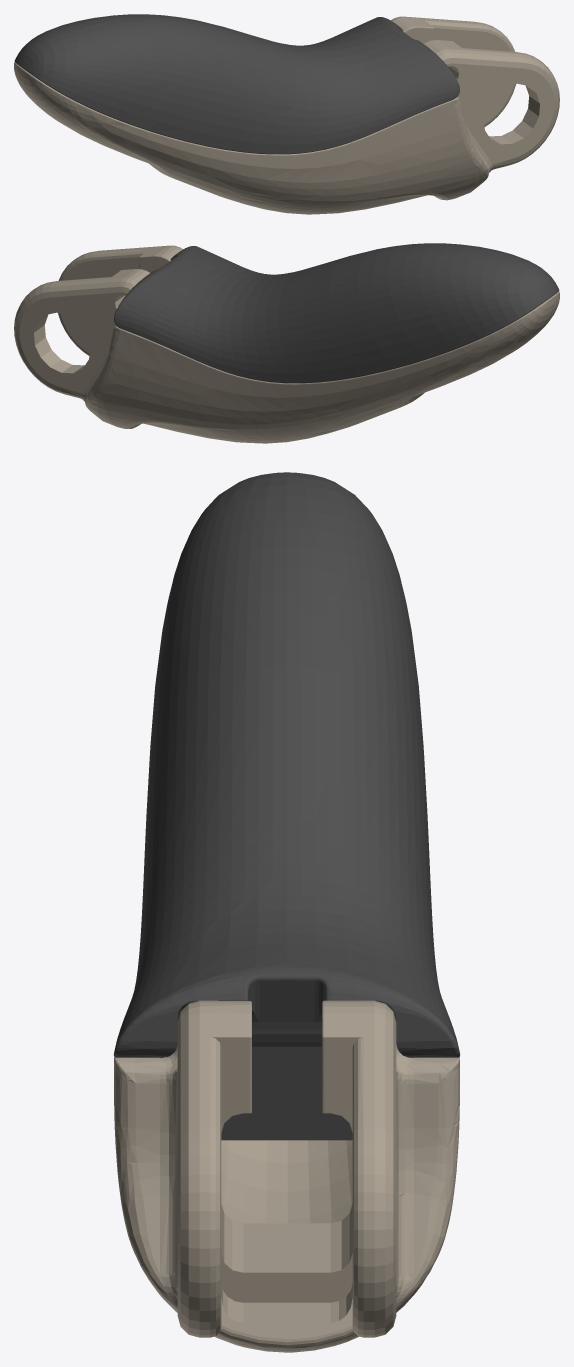
File: hand1_link_3_2_collisions.obj
The picture shows the model from 3 angles, top to bottom: view 1: azimuth 30°, elevation 25°; view 2: azimuth 150°, elevation 25°; view 3: azimuth 270°, elevation 25°; orthographic projection. The views are drawn at different scales.
Bounding box in the file's own units: 0.0542 × 0.0253 × 0.0158.
